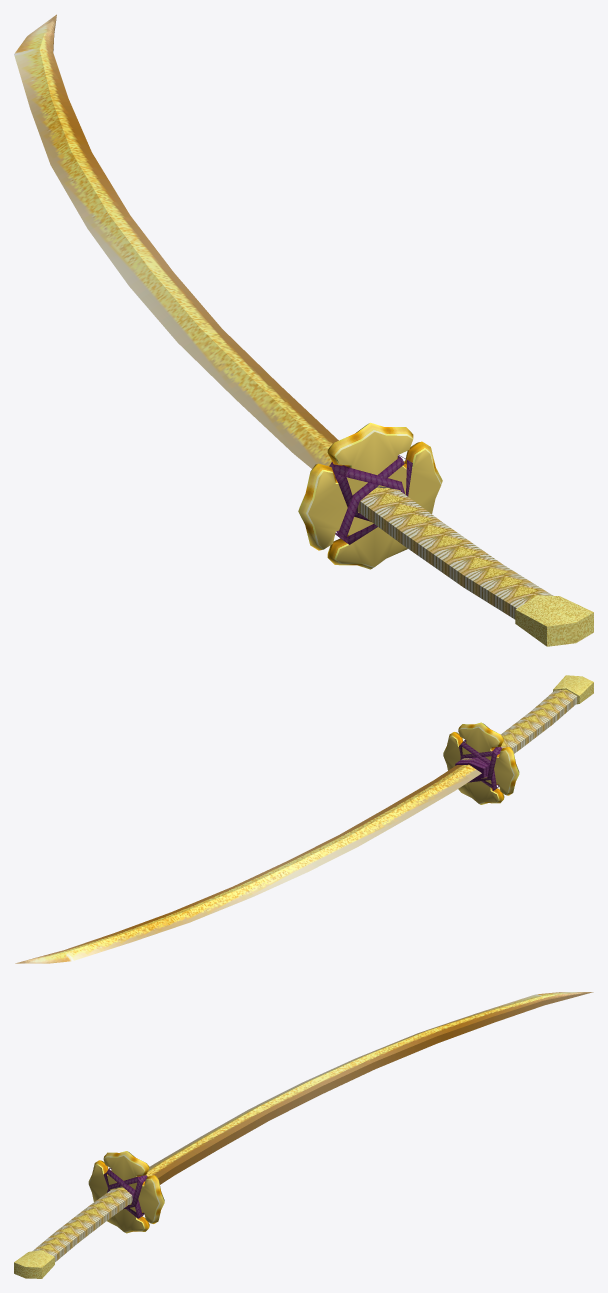
The model's file is sword_royal_royal.glb.
3 views of the same model, one above another, from view 1: azimuth 30°, elevation 25°; view 2: azimuth 150°, elevation 25°; view 3: azimuth 330°, elevation 25° (orthographic). The views are drawn at different scales.
Bounding box in the file's own units: 0.3955 × 0.169 × 1.59.
Materials: 1 (1 with a texture image).
